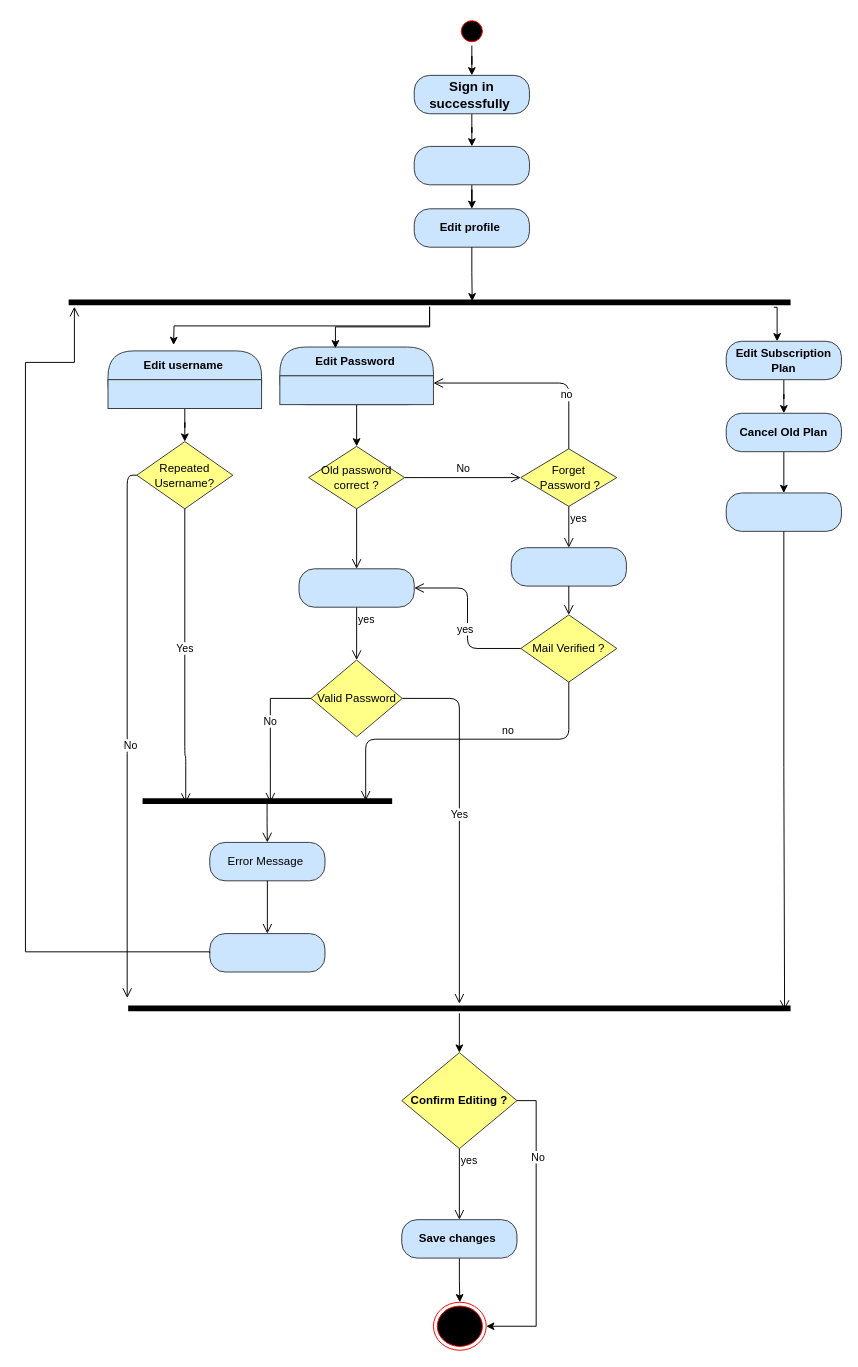
Some shapes in this 858 by 1367 pixel diagram are drawn without their labels. Here are the shapes that lost their labels. From the top down, the centre of each, then its label:
[471,165]: Show Profile Information
[184,393]: Enter new user name
[356,390]: Enter Old password
[783,511]: Choose New Subscriptions Plan
[568,566]: Send e-mail verification
[356,587]: Enter New Password
[267,952]: Clear Fields
